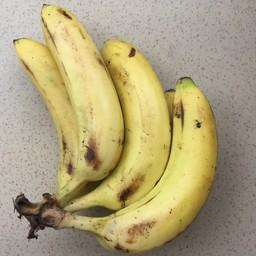Banana Ripe: (54, 67, 219, 256), (39, 4, 121, 218), (82, 32, 168, 232), (11, 27, 78, 213)
